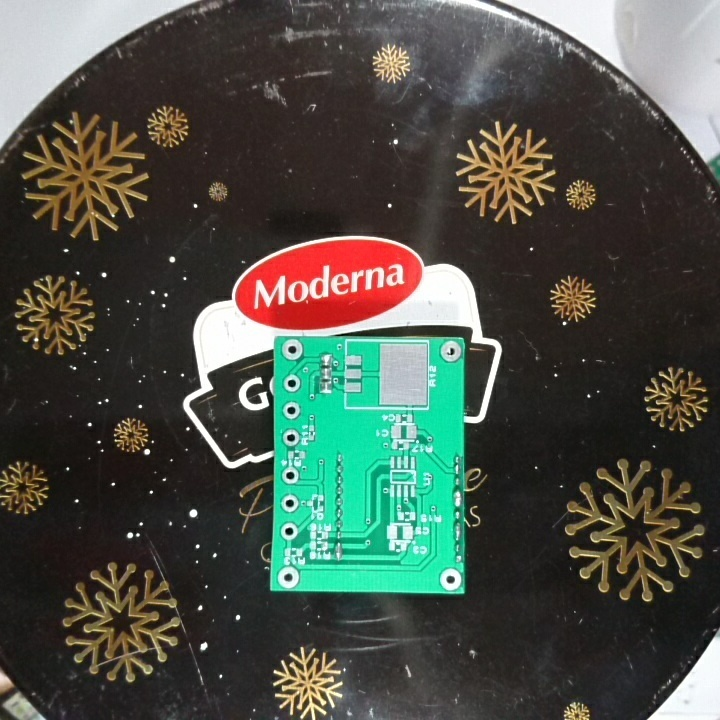F: (274, 563, 302, 589), (438, 567, 464, 593), (281, 337, 305, 362), (439, 340, 461, 365), (279, 491, 300, 514), (280, 425, 300, 448), (282, 399, 302, 421), (279, 519, 299, 541), (282, 372, 301, 395), (280, 466, 299, 486)
P: (333, 540, 345, 563), (451, 489, 464, 509), (451, 520, 462, 542)
